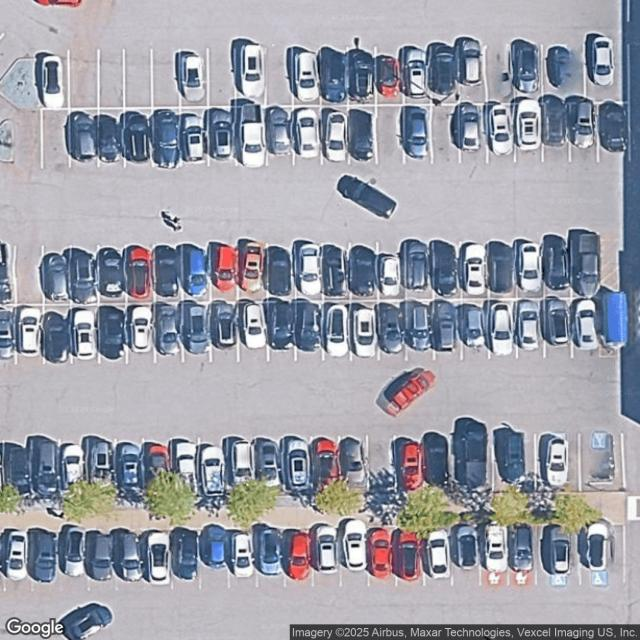car: (572, 232, 603, 297), (460, 424, 488, 488), (152, 108, 180, 168), (238, 103, 264, 167), (238, 41, 266, 99), (35, 434, 61, 496), (126, 246, 153, 303), (397, 525, 424, 581), (544, 232, 570, 290), (599, 102, 627, 153), (486, 241, 513, 293), (338, 438, 365, 490), (322, 48, 347, 104), (116, 443, 142, 496), (514, 42, 540, 94), (42, 251, 68, 303), (544, 436, 570, 488), (571, 98, 596, 152), (157, 304, 182, 358), (296, 297, 321, 351), (200, 444, 225, 498), (286, 438, 311, 492), (423, 434, 449, 485), (547, 526, 573, 577), (405, 239, 430, 292), (313, 438, 338, 491), (315, 522, 340, 575), (500, 432, 527, 481), (71, 253, 96, 305), (174, 442, 199, 494), (258, 526, 283, 578), (458, 101, 482, 155), (489, 102, 513, 156), (462, 242, 486, 296), (585, 523, 612, 571), (344, 519, 368, 573), (32, 530, 56, 584), (517, 99, 541, 152), (186, 303, 210, 356), (354, 304, 378, 357), (148, 530, 172, 583), (518, 240, 541, 295), (181, 54, 206, 104), (483, 524, 508, 574), (432, 44, 456, 96), (154, 246, 178, 298), (6, 530, 30, 582), (543, 95, 567, 146), (62, 525, 86, 576), (460, 37, 483, 90), (325, 111, 348, 164), (184, 245, 207, 298), (230, 441, 253, 494), (370, 527, 393, 580), (269, 300, 293, 350), (90, 439, 114, 489), (455, 521, 479, 571), (102, 309, 125, 361), (6, 441, 29, 493), (298, 244, 320, 298), (352, 244, 374, 298), (288, 533, 312, 582), (126, 111, 149, 162), (268, 106, 291, 157), (242, 242, 265, 293), (512, 523, 535, 574), (42, 56, 64, 109), (434, 242, 456, 295), (493, 300, 514, 355), (101, 248, 125, 296), (268, 249, 292, 297), (296, 110, 319, 160), (350, 111, 373, 161), (406, 108, 429, 158), (118, 531, 141, 581), (294, 51, 316, 103), (434, 299, 456, 351), (429, 528, 451, 580), (324, 244, 345, 298), (400, 441, 423, 490), (182, 114, 206, 160), (257, 440, 280, 488), (90, 534, 114, 580), (405, 48, 427, 98), (210, 108, 232, 158), (328, 302, 348, 357), (410, 302, 432, 352), (518, 300, 540, 350), (549, 296, 571, 346), (594, 36, 615, 88), (352, 48, 372, 102), (147, 444, 169, 493), (176, 528, 197, 579), (72, 114, 95, 160), (463, 301, 485, 349), (76, 309, 96, 361), (243, 303, 266, 348), (215, 302, 236, 351), (64, 443, 85, 492), (47, 312, 67, 363), (383, 305, 403, 356), (232, 533, 254, 579), (214, 244, 235, 292), (98, 118, 119, 165), (205, 524, 227, 568), (549, 46, 572, 88), (380, 252, 401, 297), (131, 306, 150, 354), (578, 298, 596, 347), (380, 53, 399, 99), (0, 240, 13, 304), (22, 310, 40, 354), (2, 308, 14, 359)
lot_boundary: (0, 0, 640, 640)
objects: (0, 58, 37, 110), (603, 292, 629, 351), (0, 121, 14, 163)
stall: (586, 44, 629, 103), (494, 433, 536, 492), (536, 434, 580, 490), (580, 435, 624, 491), (543, 46, 585, 104), (581, 528, 624, 583), (539, 528, 580, 584), (455, 434, 494, 491), (0, 437, 34, 495), (598, 102, 629, 162), (237, 302, 268, 362), (234, 47, 266, 105), (459, 238, 489, 299), (571, 237, 601, 298), (402, 239, 432, 300), (430, 238, 460, 299), (42, 304, 72, 365), (70, 303, 100, 364), (294, 242, 324, 302), (487, 239, 517, 299), (68, 49, 99, 107), (516, 238, 545, 298), (98, 304, 127, 363), (198, 435, 228, 492), (480, 528, 510, 585), (210, 302, 238, 362), (127, 303, 155, 363), (256, 529, 286, 585), (350, 240, 377, 302), (368, 435, 397, 492), (169, 436, 198, 493), (311, 435, 340, 492), (225, 434, 254, 491), (283, 434, 312, 491), (58, 438, 87, 495), (115, 437, 144, 494), (88, 530, 117, 587), (119, 530, 148, 587), (452, 527, 481, 584), (423, 528, 452, 585), (339, 528, 368, 585), (70, 108, 98, 167), (266, 242, 294, 301), (210, 243, 238, 302), (351, 301, 379, 360), (267, 302, 295, 361), (545, 238, 572, 299), (238, 243, 266, 301), (181, 243, 209, 301), (462, 300, 490, 358), (32, 532, 61, 588), (228, 530, 257, 586), (424, 435, 453, 491), (508, 527, 537, 583), (312, 528, 341, 584), (41, 49, 68, 109), (379, 300, 406, 360), (324, 240, 350, 302), (4, 531, 32, 588), (86, 438, 114, 495), (228, 529, 256, 586), (396, 435, 424, 492), (180, 48, 207, 107), (153, 108, 180, 167), (98, 108, 125, 167), (296, 302, 323, 361), (490, 299, 517, 358), (434, 300, 461, 359), (254, 435, 282, 491), (28, 438, 56, 494), (200, 530, 228, 586), (60, 531, 88, 587), (284, 529, 312, 585), (396, 528, 424, 584), (98, 49, 125, 107), (153, 244, 180, 302), (378, 241, 405, 299), (571, 300, 598, 358), (153, 48, 179, 108), (405, 45, 431, 104), (350, 46, 376, 105), (266, 47, 292, 106), (487, 46, 513, 105), (460, 45, 486, 104), (181, 108, 207, 167), (295, 107, 321, 166), (210, 108, 236, 167), (488, 103, 514, 162), (461, 104, 487, 163), (433, 104, 459, 163), (405, 105, 431, 164), (350, 106, 376, 165), (544, 103, 570, 162), (126, 244, 152, 303), (516, 103, 542, 162), (71, 246, 97, 305), (45, 246, 71, 305), (184, 302, 210, 361), (518, 299, 544, 358), (544, 298, 570, 357), (172, 530, 199, 586), (369, 529, 396, 585), (341, 435, 368, 491), (323, 47, 349, 105), (294, 47, 320, 105), (208, 48, 234, 106), (515, 45, 541, 103), (432, 45, 458, 103), (42, 109, 68, 167), (125, 50, 151, 108), (126, 108, 152, 166), (268, 108, 294, 166), (238, 107, 264, 165), (377, 106, 403, 164), (572, 103, 598, 161), (100, 246, 126, 304), (17, 246, 43, 304), (153, 244, 179, 302), (17, 306, 43, 364), (156, 304, 182, 362), (407, 300, 433, 358), (142, 438, 169, 493), (15, 111, 41, 168), (378, 45, 403, 104), (324, 106, 349, 165), (325, 300, 349, 360), (148, 530, 172, 585), (0, 246, 16, 306), (0, 307, 16, 364)
